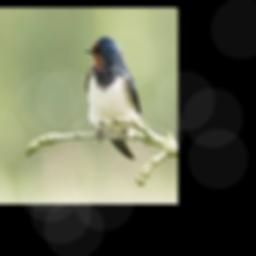Swallow: (83, 36, 140, 159)
